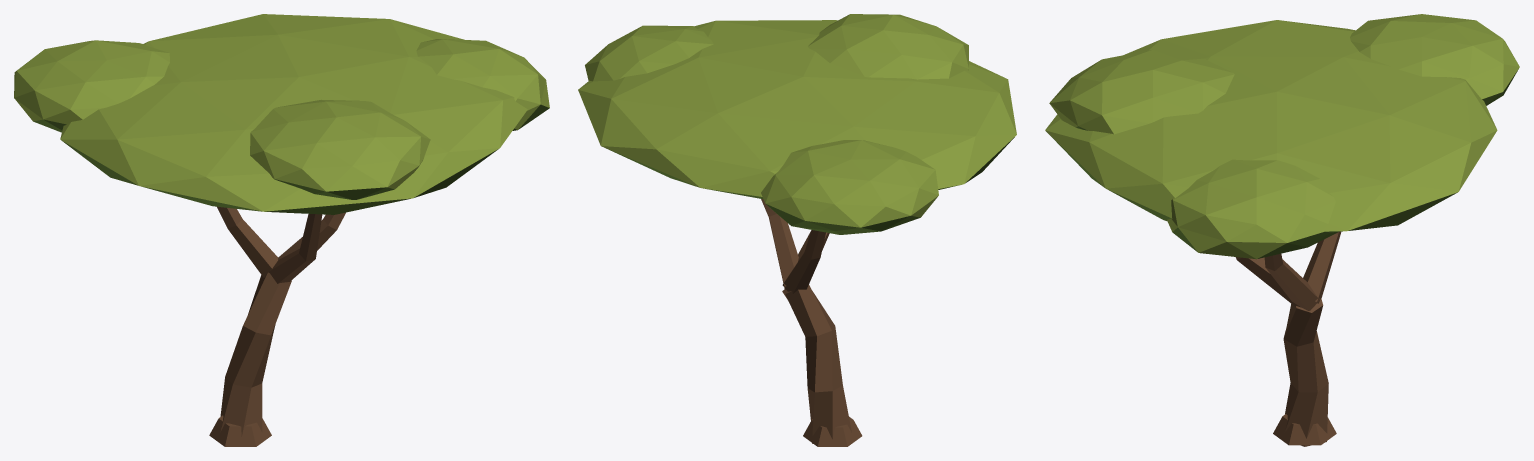
The model's file is tree_acacia_a.glb.
3 views of the same model, side by side, from view 1: azimuth 30°, elevation 25°; view 2: azimuth 150°, elevation 25°; view 3: azimuth 270°, elevation 25° (orthographic). The views are drawn at different scales.
Parts seen in each view (by area): view 1: tree_acacia_a; view 2: tree_acacia_a; view 3: tree_acacia_a.
Part boxes in pixels (left/top/right/bottom): tree_acacia_a: left=14, top=14, right=549, bottom=446; tree_acacia_a: left=578, top=14, right=1016, bottom=446; tree_acacia_a: left=1045, top=14, right=1519, bottom=446.
Bounding box in the file's own units: 3.15 × 2.6 × 2.96.
